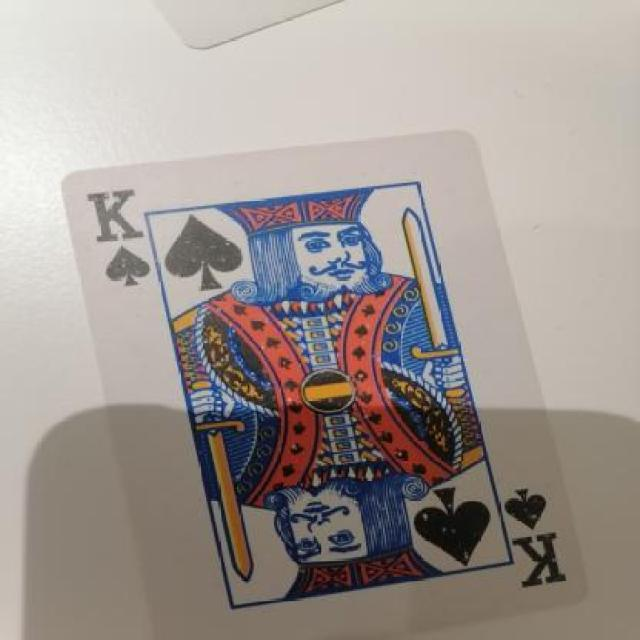KS: (489, 466, 578, 602), (74, 179, 160, 295)
